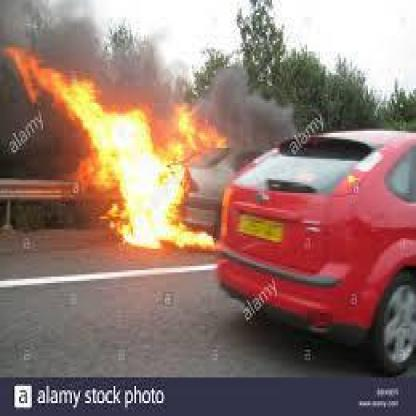fire: (15, 47, 220, 248)
smoke: (209, 66, 294, 143), (2, 93, 59, 163), (34, 11, 112, 61), (106, 34, 168, 91)
